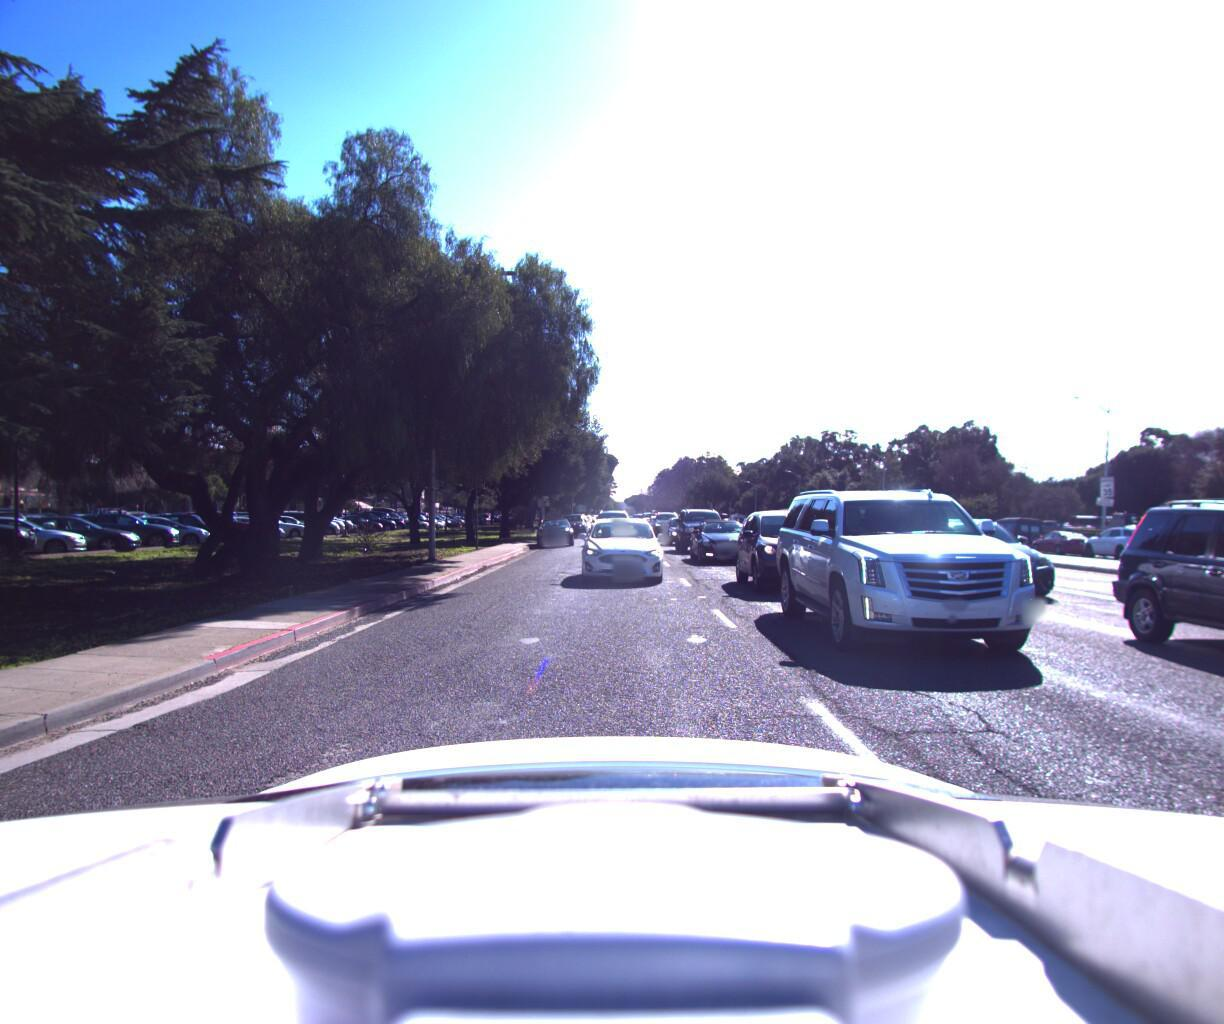car: (778, 471, 1062, 671), (1099, 486, 1224, 716), (889, 513, 1067, 603), (731, 509, 852, 594), (582, 513, 669, 584), (1078, 521, 1174, 561), (689, 517, 761, 566), (979, 513, 1050, 550), (672, 506, 725, 553), (1027, 526, 1099, 555), (532, 516, 578, 547), (663, 513, 705, 544)
